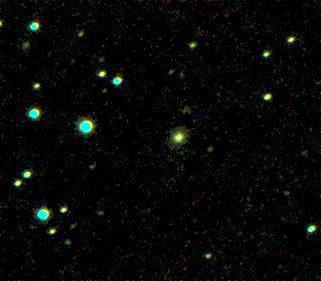star: (286, 139, 316, 169)
